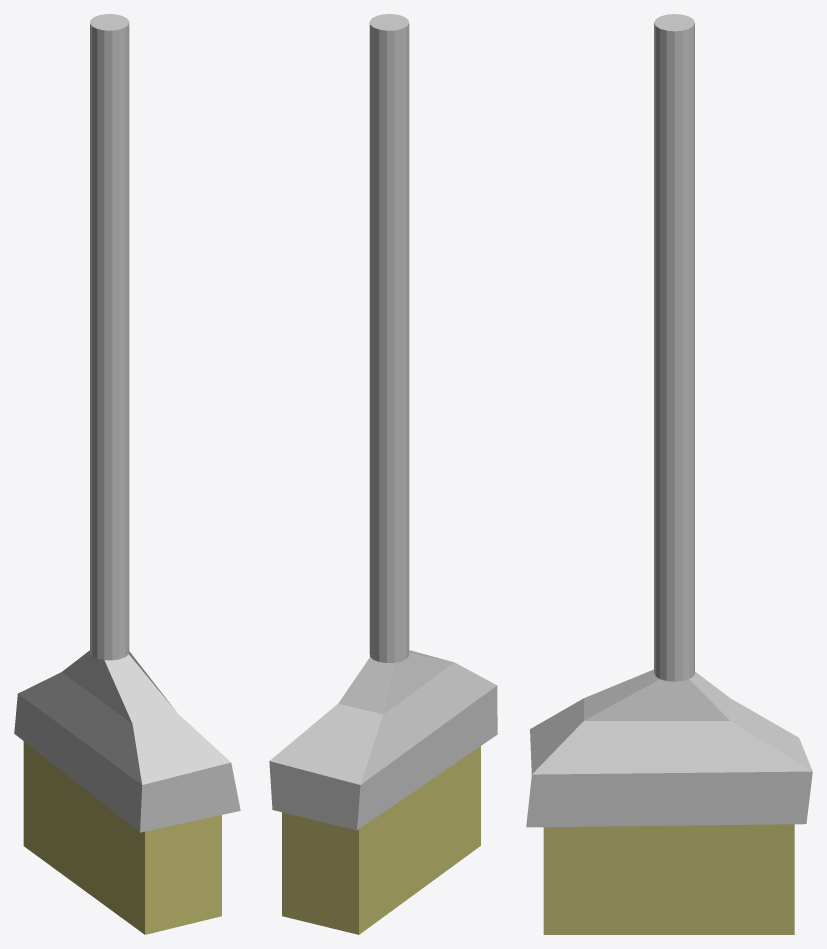
The model's file is sapu.fbx.
3 views of the same model, side by side, from view 1: azimuth 30°, elevation 25°; view 2: azimuth 150°, elevation 25°; view 3: azimuth 270°, elevation 25° (orthographic). The views are drawn at different scales.
Visible parts, largest first — view 1: Cube.005; view 2: Cube.005; view 3: Cube.005.
Part boxes in pixels (x1=…): Cube.005: x1=14, y1=14, x2=240, y2=934; Cube.005: x1=269, y1=14, x2=497, y2=934; Cube.005: x1=526, y1=14, x2=812, y2=934.
Size of the model in its own units: 255 by 2139 by 626.
